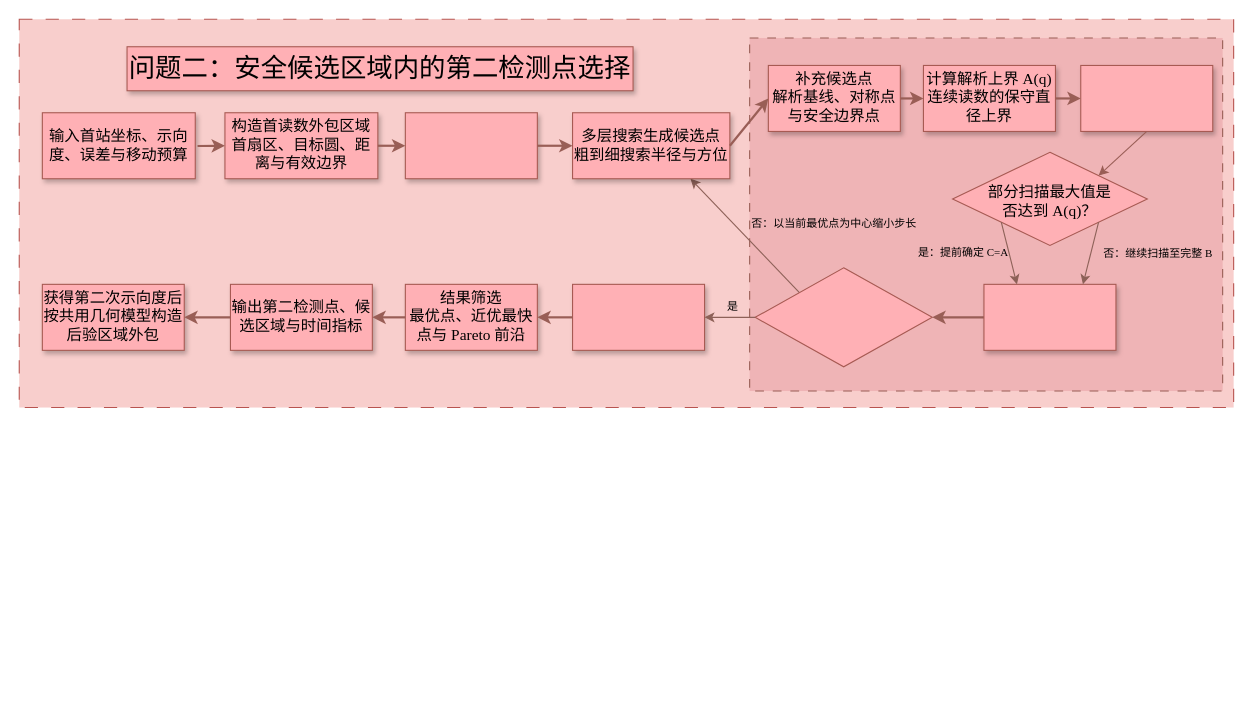
The diagram is 1258 pixels wide and 724 high, and some of its shapes have lost their labels. The centre of each missing label's shape, as x and y in pixels:
"合并评分 C(q)=min(A,B) 记录扫描状态" belongs at point (1050, 318).
"是否完成预设搜索层？" belongs at point (843, 317).
"构造安全收信区域 四圆盘交集与移动预算约束" belongs at point (472, 146).
"统一最终精度复核 对全部已访问候选重新计算 C" belongs at point (639, 318).
"计算几何上界 B(q) 读数网格半步增宽后的区域直径" belongs at point (1147, 99).
